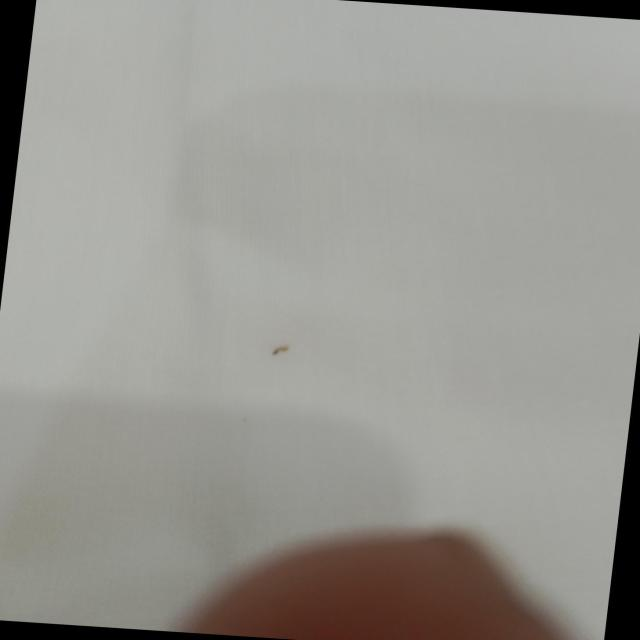stain: (254, 331, 310, 362)
